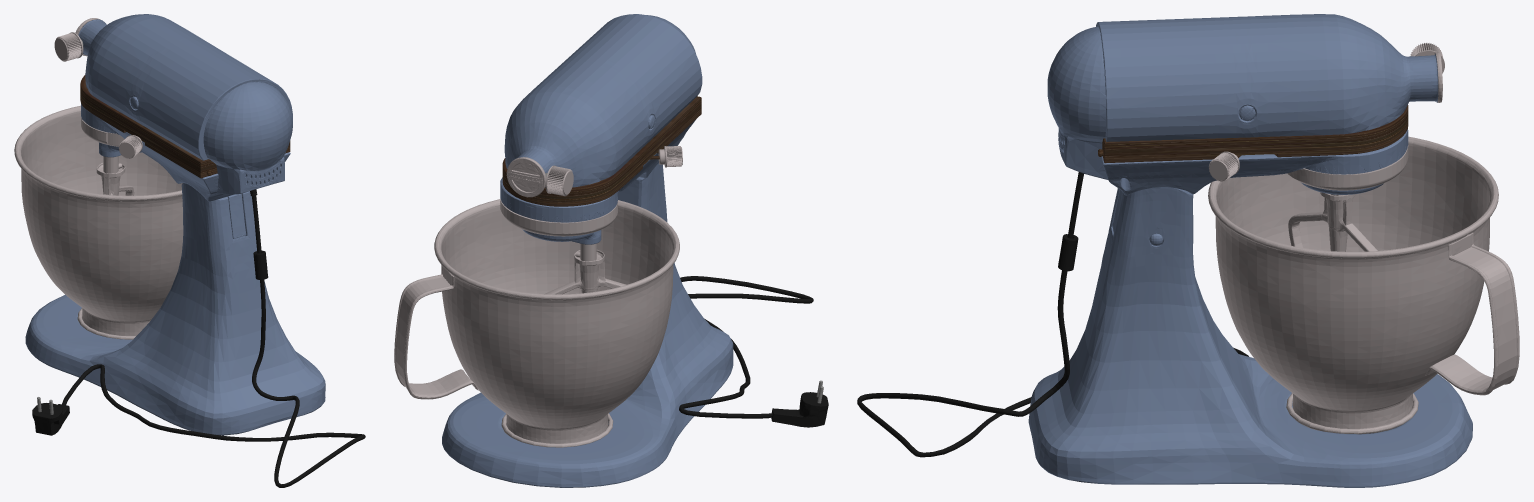
File: mixer_blue.glb
3 views of the same model, side by side, from view 1: azimuth 30°, elevation 25°; view 2: azimuth 150°, elevation 25°; view 3: azimuth 270°, elevation 25° (orthographic). The views are drawn at different scales.
Bounding box in the file's own units: 0.1138 × 0.1288 × 0.1883.
Materials: 10 (1 with a texture image).
